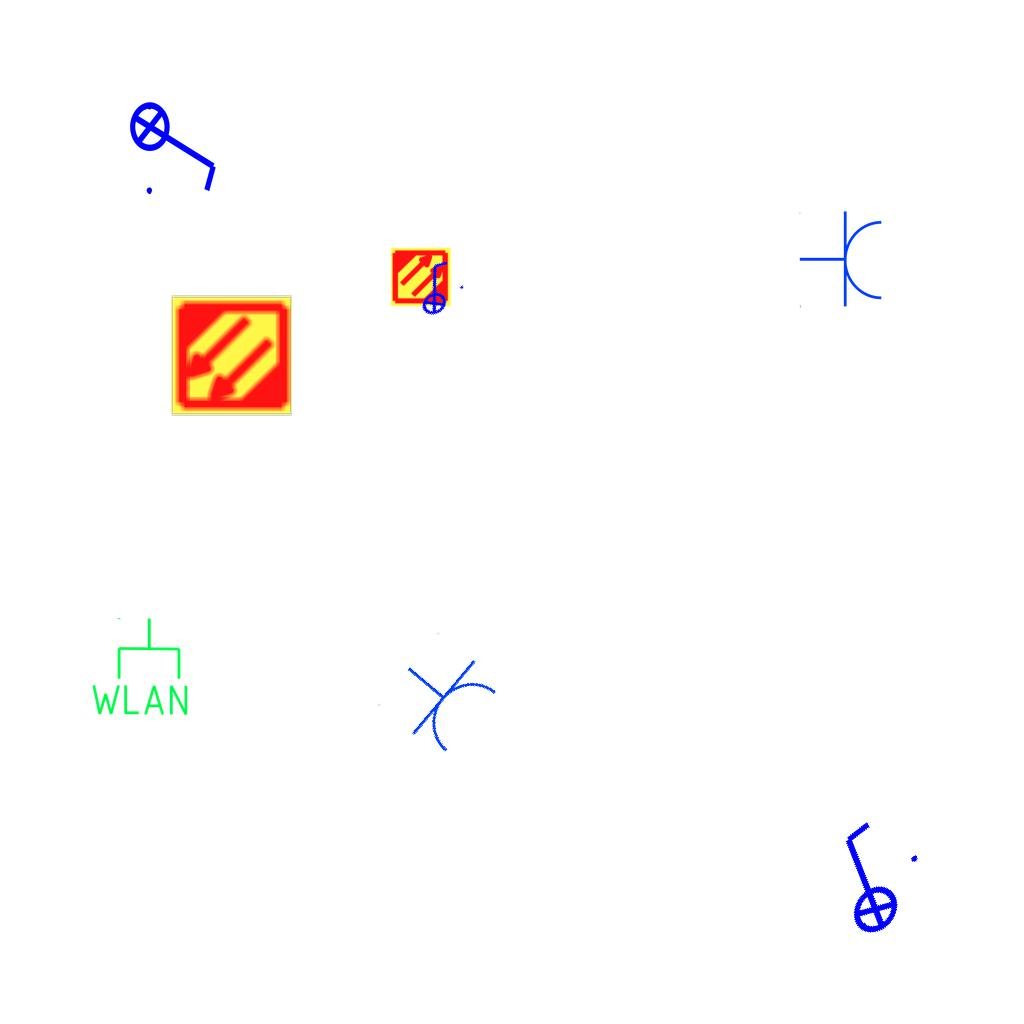ASR_Ansaugrauchmelder: (169, 293, 294, 418), (390, 246, 452, 308)
Ausschalter_beleuchtet: (792, 806, 938, 954), (128, 88, 224, 200), (398, 253, 472, 323)
Schukosteckdose_einfach: (375, 630, 507, 763), (799, 210, 886, 310)
WLAN: (87, 615, 192, 719)
